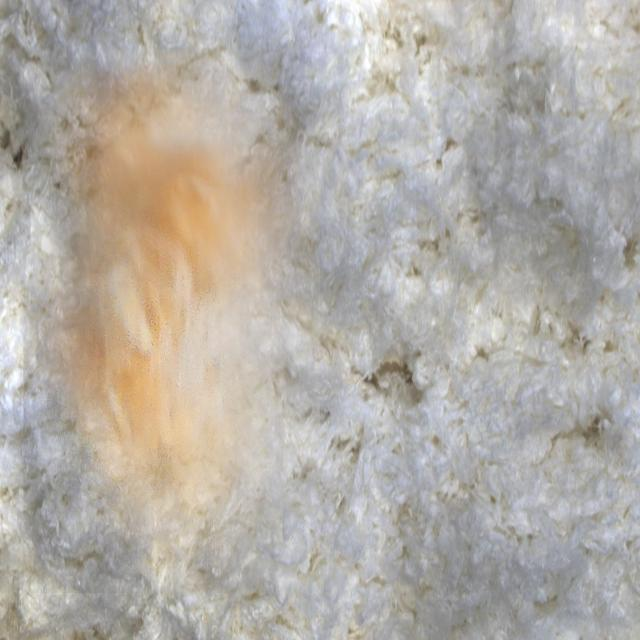dust: (23, 50, 320, 593)
